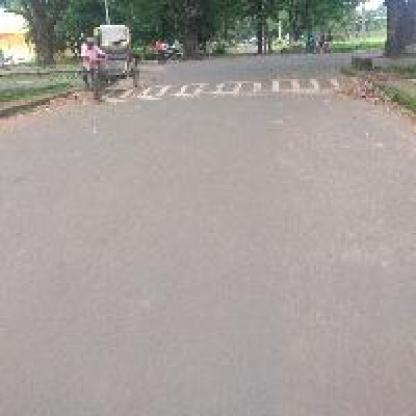Speed Bump: (137, 75, 341, 102)
